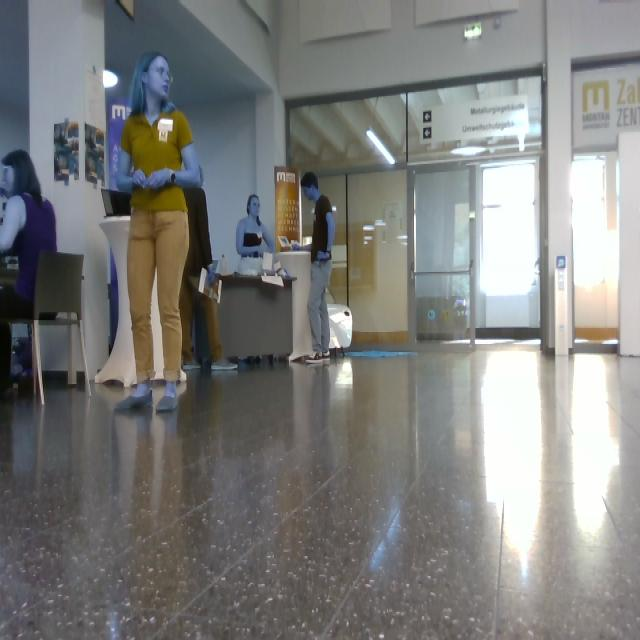chair: (33, 253, 90, 402)
desk: (219, 276, 296, 366)
door: (416, 161, 540, 340)
light bulb: (367, 129, 395, 165), (451, 146, 487, 157), (104, 70, 119, 89), (465, 24, 481, 40)
person: (117, 53, 202, 410), (1, 150, 57, 392), (296, 173, 335, 362), (237, 196, 274, 274)
pillar: (539, 1, 573, 356)
table: (100, 217, 137, 388), (152, 280, 164, 380)
tiled floor: (1, 346, 640, 640)
